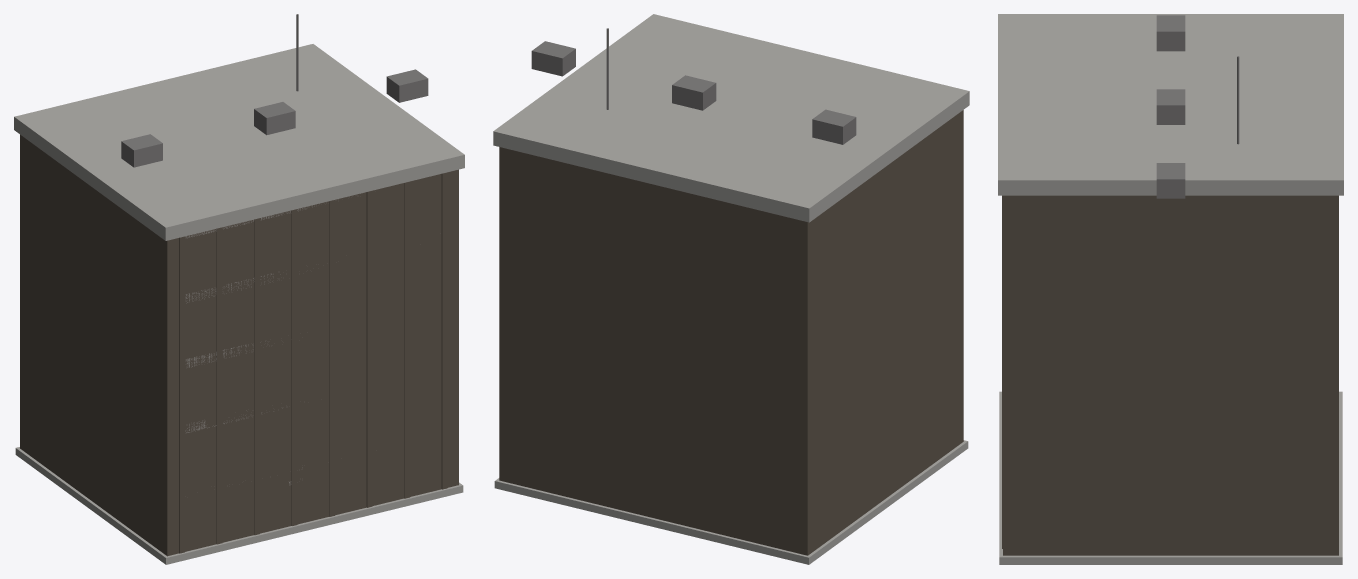
The model's file is b_hotel.glb.
3 views of the same model, side by side, from view 1: azimuth 30°, elevation 25°; view 2: azimuth 150°, elevation 25°; view 3: azimuth 270°, elevation 25° (orthographic). The views are drawn at different scales.
Parts seen in each view (by area): view 1: Building; view 2: Building; view 3: Building.
Boxes of the visible parts, <box> form: Building: <box>14,14,464,564</box>; Building: <box>493,14,969,564</box>; Building: <box>998,14,1343,564</box>.
Size of the model in its own units: 18.21 by 21.8 by 14.4.
Materials: 5 (2 with a texture image).
